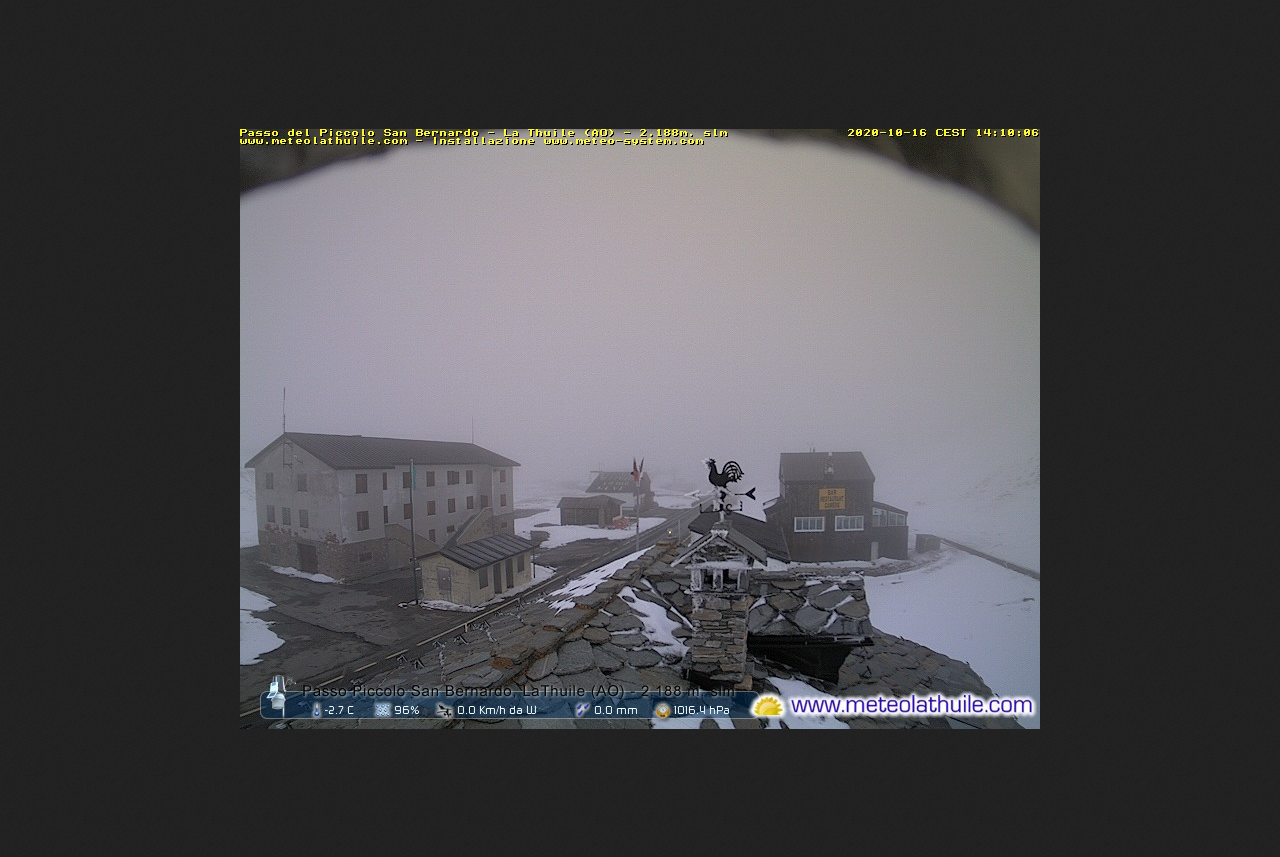no: (407, 461, 420, 498), (626, 459, 641, 486)
